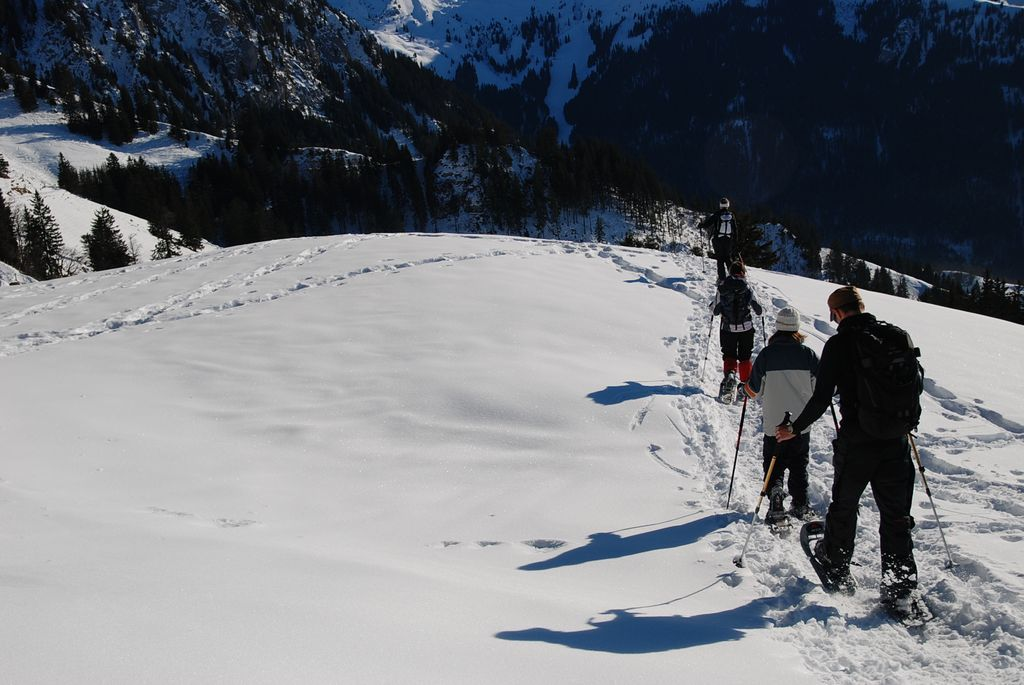Footwear: (812, 539, 849, 589)
